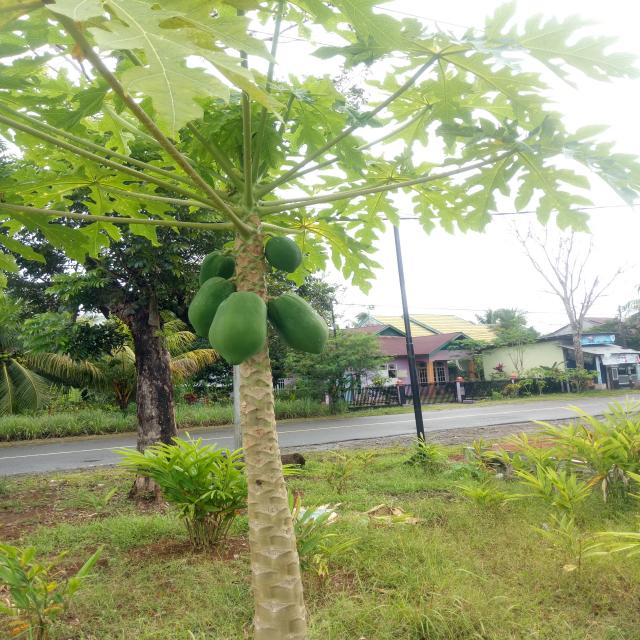Pepaya unrippen: (212, 294, 266, 368), (271, 290, 328, 360), (272, 234, 305, 276)
